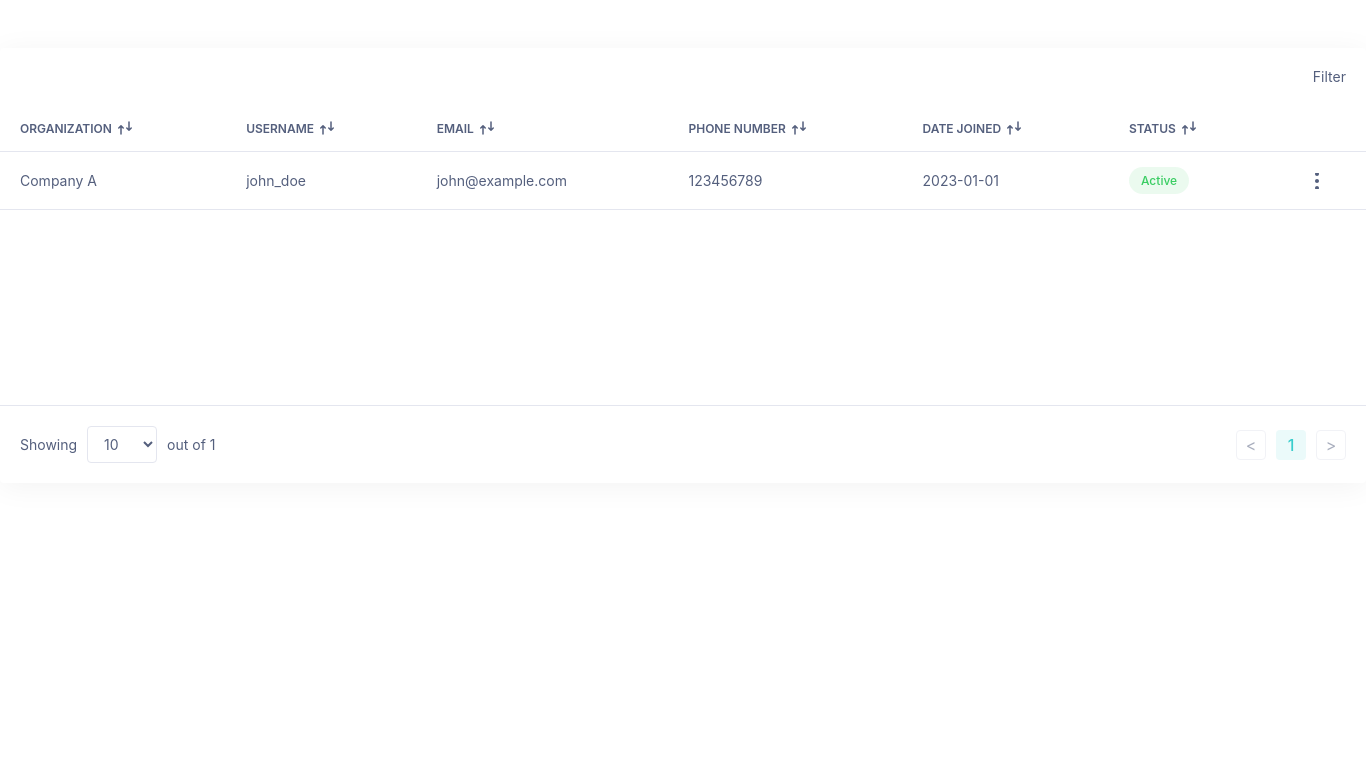
Test case: DataTable › shows filter form with all fields when filter button is clicked
Click the button "Filter": (1329, 76) [1313,68,1346,85]
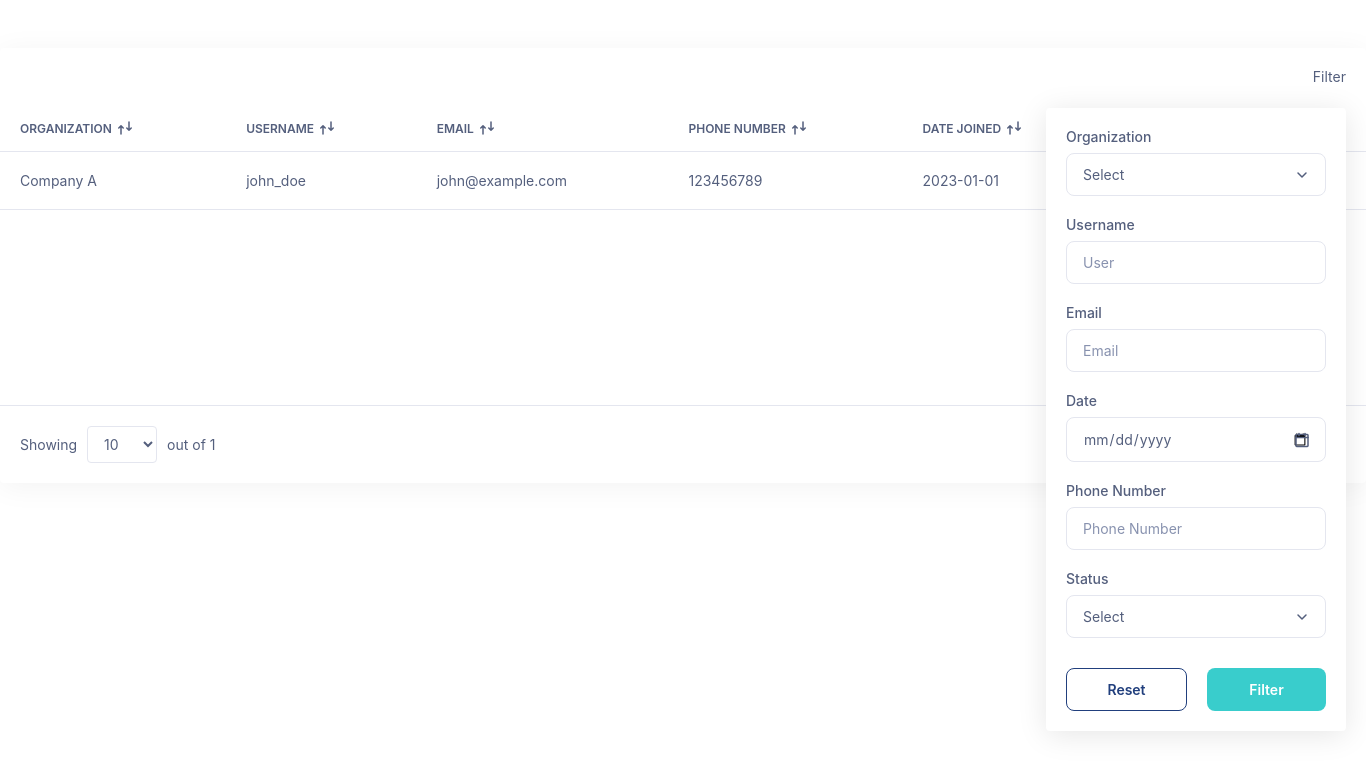
Expected: the dropdown labelled "Organization" is shown, [1066,153,1326,196]
Expected: the field labelled "Username" is shown, [1066,241,1326,284]
Expected: the field labelled "Email" is shown, [1066,329,1326,372]
